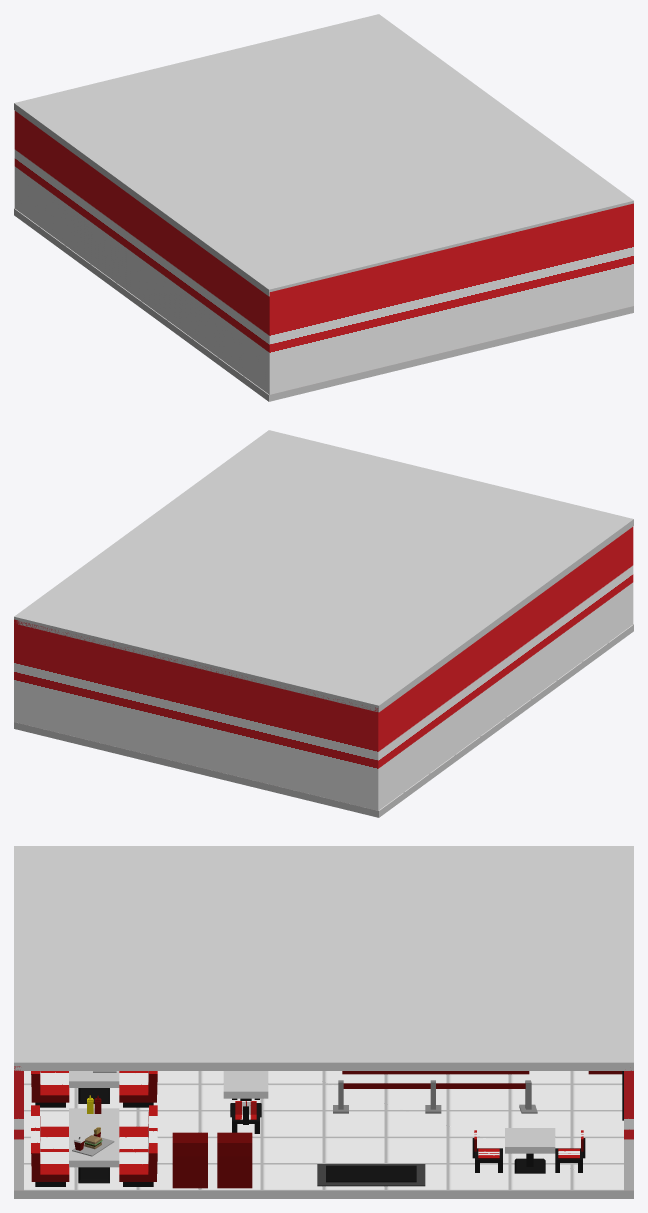
File: Block Burger.fbx
3 views of the same model, one above another, from view 1: azimuth 30°, elevation 25°; view 2: azimuth 150°, elevation 25°; view 3: azimuth 270°, elevation 25° (orthographic). The views are drawn at different scales.
Visible parts, largest first — view 1: Fast_Food_Ceiling, Fast_Food_Wall, Fast_Food_Floor; view 2: Fast_Food_Ceiling, Fast_Food_Wall, Fast_Food_Floor; view 3: Fast_Food_Ceiling, Fast_Food_Floor, Chair (×2), Chair4 (×2), Table, Fast_Food_Wall, Bin, Bin1, Mat_Part, Table_Small2, Table_Small1, Table_Stand (×2) (+4 smaller).
Part boxes in pixels (left/top/right/bottom): Fast_Food_Ceiling: left=14, top=14, right=633, bottom=296; Fast_Food_Wall: left=14, top=111, right=633, bottom=394; Fast_Food_Floor: left=14, top=208, right=633, bottom=401; Fast_Food_Ceiling: left=14, top=430, right=633, bottom=712; Fast_Food_Wall: left=14, top=527, right=633, bottom=810; Fast_Food_Floor: left=14, top=624, right=633, bottom=817; Fast_Food_Ceiling: left=14, top=846, right=633, bottom=1070; Fast_Food_Floor: left=14, top=1071, right=633, bottom=1198; Chair (×2): left=119, top=1071, right=157, bottom=1181; Chair4 (×2): left=31, top=1071, right=69, bottom=1181; Table: left=69, top=1108, right=119, bottom=1167; Fast_Food_Wall: left=14, top=1066, right=633, bottom=1190; Bin: left=172, top=1132, right=207, bottom=1188; Bin1: left=217, top=1132, right=252, bottom=1188; Mat_Part: left=326, top=1165, right=416, bottom=1182; Table_Small2: left=505, top=1128, right=555, bottom=1153; Table_Small1: left=223, top=1071, right=268, bottom=1098; Table_Stand (×2): left=78, top=1153, right=545, bottom=1183.
Bounding box in the file's own units: 88.62 × 26.03 × 107.
Materials: 24 (4 with a texture image).
